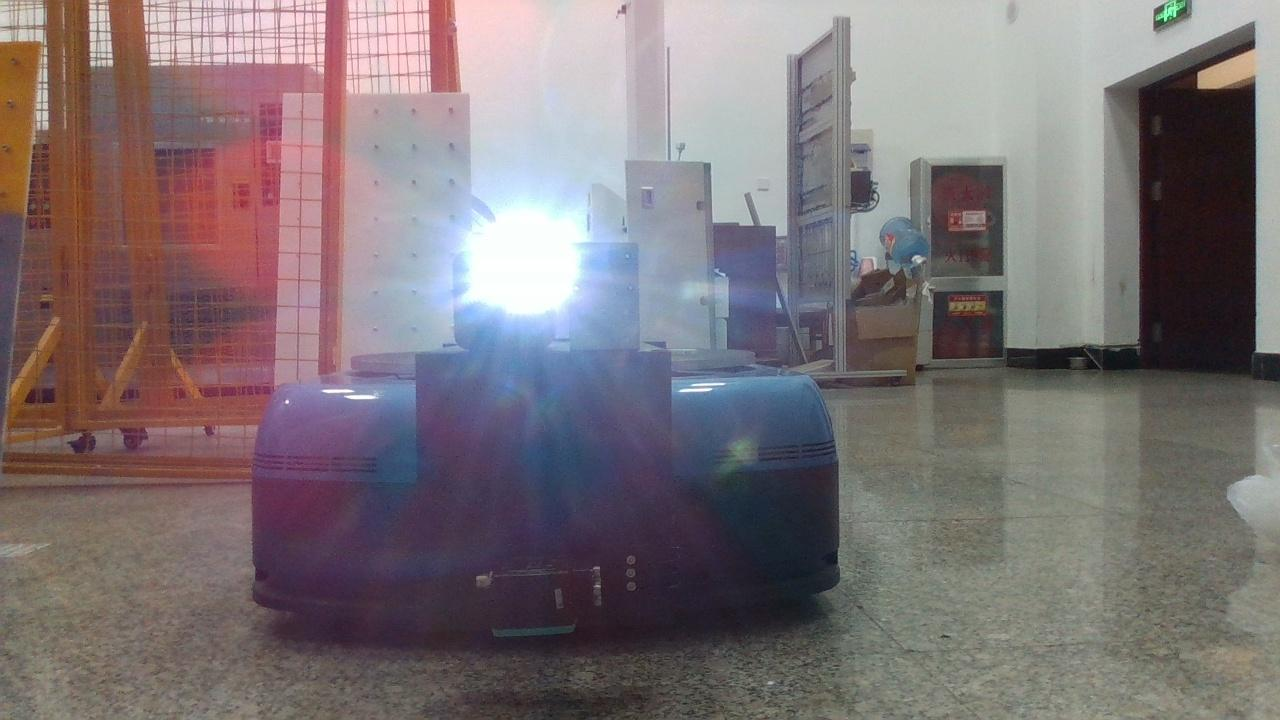AGV: (252, 343, 840, 638)
